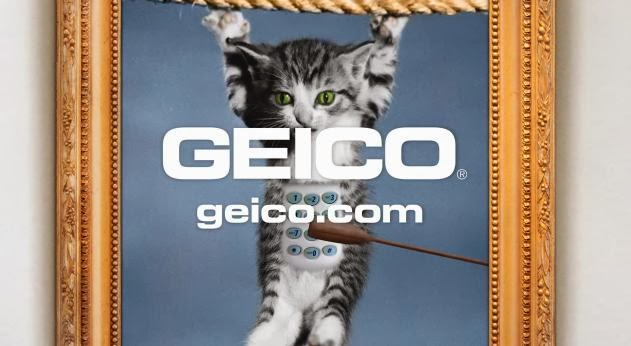geico: (158, 123, 469, 184)
